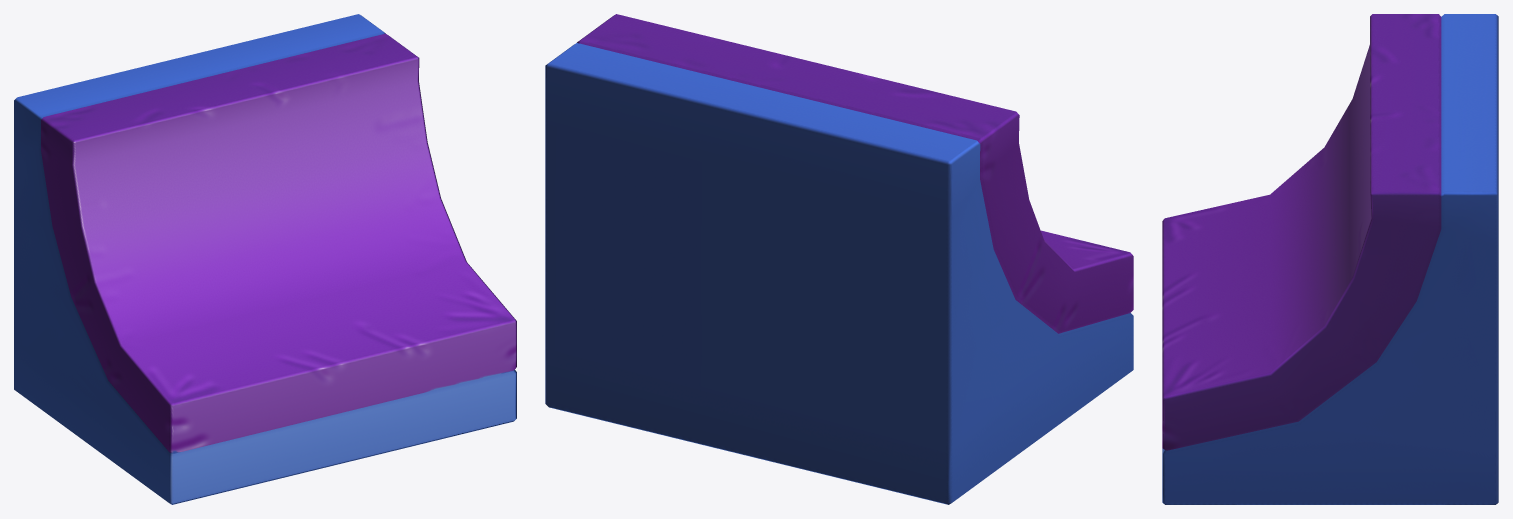
The model's file is OBS0110030.fbx.
3 renders of one model, left to right at view 1: azimuth 30°, elevation 25°; view 2: azimuth 150°, elevation 25°; view 3: azimuth 270°, elevation 25°, orthographic. The views are drawn at different scales.
Visible parts, largest first — view 1: smOBS0110030; view 2: smOBS0110030; view 3: smOBS0110030.
Part boxes in pixels (left/top/right/bottom): smOBS0110030: left=14, top=14, right=516, bottom=504; smOBS0110030: left=545, top=14, right=1133, bottom=504; smOBS0110030: left=1162, top=14, right=1498, bottom=504.
Bounding box in the file's own units: 299 × 242 × 235.
1 material, 1 textured.
